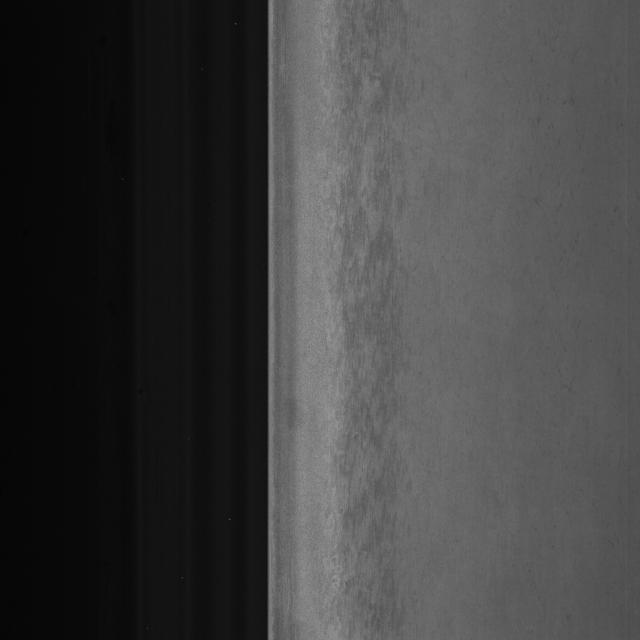inclusion: (325, 54, 410, 562)
